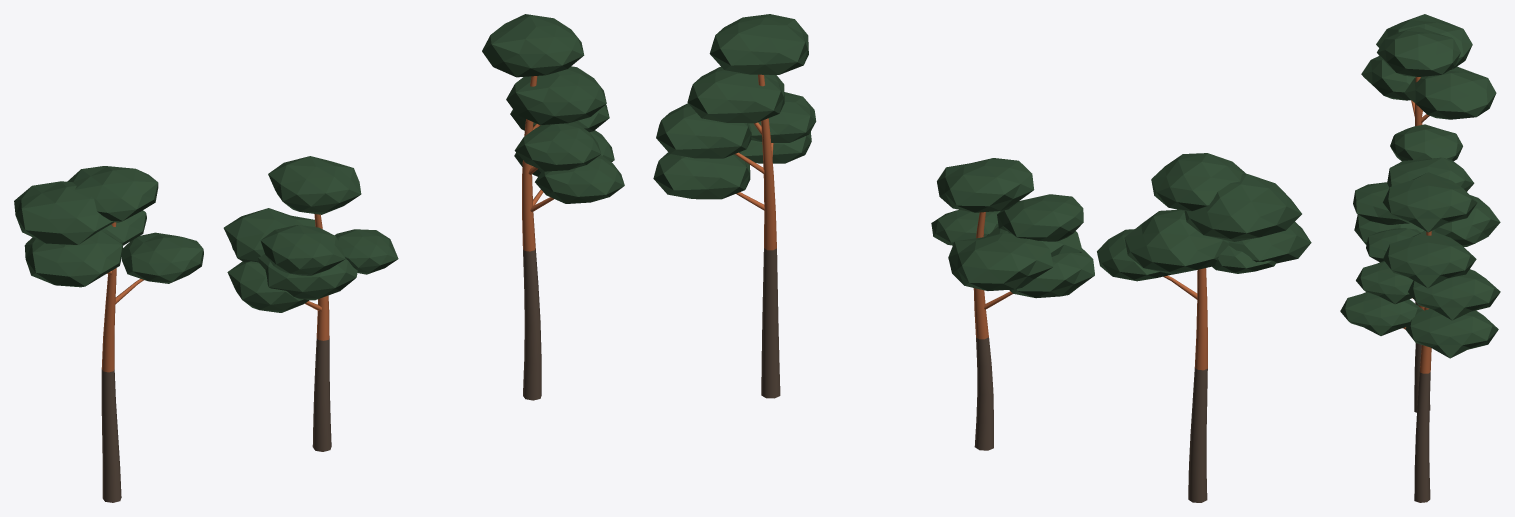
Rendered from scots-pines.glb.
3 views of the same model, side by side, from view 1: azimuth 30°, elevation 25°; view 2: azimuth 150°, elevation 25°; view 3: azimuth 270°, elevation 25° (orthographic). The views are drawn at different scales.
Visible parts, largest first — view 1: ScotsPine_3_canopy, ScotsPine_1_canopy, ScotsPine_2_canopy, ScotsPine_3_trunk, ScotsPine_1_trunk, ScotsPine_2_trunk; view 2: ScotsPine_3_canopy, ScotsPine_1_canopy, ScotsPine_2_canopy, ScotsPine_3_trunk, ScotsPine_1_trunk, ScotsPine_2_trunk; view 3: ScotsPine_3_canopy, ScotsPine_1_canopy, ScotsPine_2_canopy, ScotsPine_3_trunk, ScotsPine_2_trunk, ScotsPine_1_trunk.
Boxes of the visible parts, box(x1,y1,x2,y2) form: ScotsPine_3_canopy: box(482, 14, 624, 203); ScotsPine_1_canopy: box(14, 166, 203, 287); ScotsPine_2_canopy: box(223, 156, 398, 312); ScotsPine_3_trunk: box(522, 76, 553, 400); ScotsPine_1_trunk: box(101, 222, 143, 502); ScotsPine_2_trunk: box(305, 214, 331, 451); ScotsPine_3_canopy: box(653, 14, 816, 199); ScotsPine_1_canopy: box(1097, 153, 1311, 281); ScotsPine_2_canopy: box(931, 158, 1094, 298); ScotsPine_3_trunk: box(734, 74, 780, 398); ScotsPine_1_trunk: box(1163, 268, 1207, 502); ScotsPine_2_trunk: box(973, 212, 1012, 450); ScotsPine_3_canopy: box(1340, 172, 1500, 358); ScotsPine_1_canopy: box(1361, 14, 1496, 161); ScotsPine_2_canopy: box(1353, 157, 1500, 262); ScotsPine_3_trunk: box(1403, 231, 1431, 502); ScotsPine_2_trunk: box(1414, 305, 1430, 412); ScotsPine_1_trunk: box(1411, 77, 1429, 305).
Bounding box in the file's own units: 26.12 × 14.96 × 6.87.
